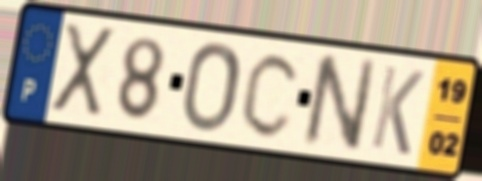8: (115, 34, 171, 123)
C: (238, 49, 304, 141)
K: (367, 62, 427, 159)
N: (300, 52, 381, 155)
O: (180, 39, 244, 135)
X: (49, 20, 118, 120)
